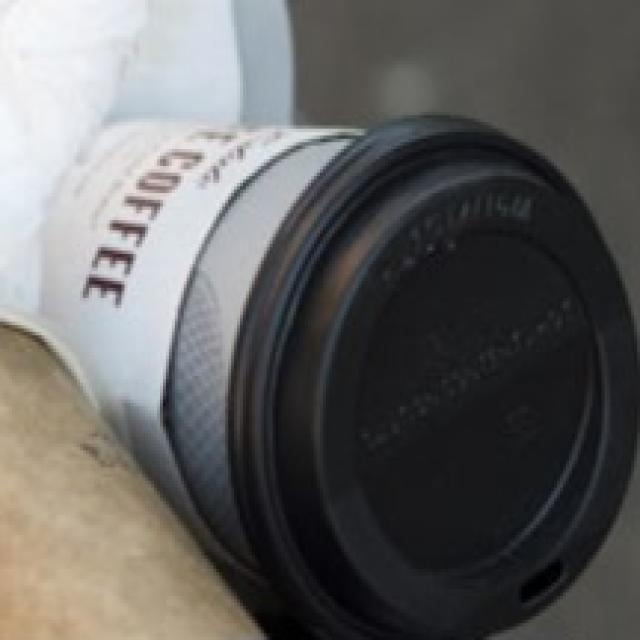plastic cup: (9, 0, 640, 630)
